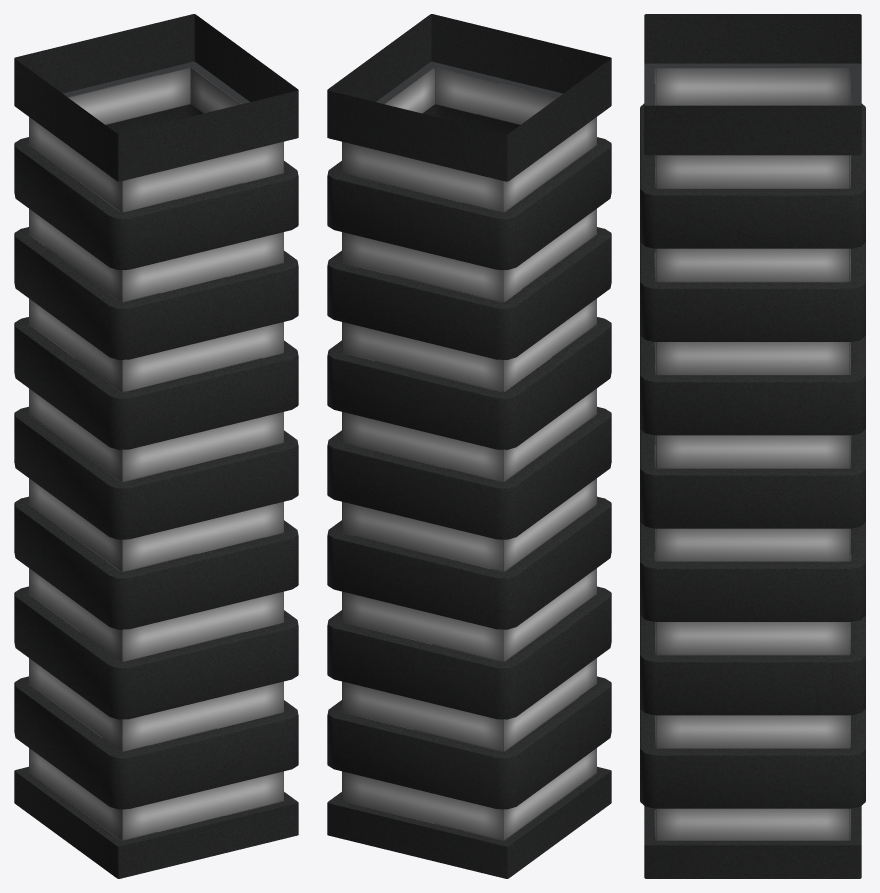
File: Column04.FBX
3 views of the same model, side by side, from view 1: azimuth 30°, elevation 25°; view 2: azimuth 150°, elevation 25°; view 3: azimuth 270°, elevation 25° (orthographic). The views are drawn at different scales.
Visible parts, largest first — view 1: Column04; view 2: Column04; view 3: Column04.
Boxes of the visible parts, x1,y1,x2,y2 form: Column04: [14, 14, 298, 878]; Column04: [327, 14, 611, 878]; Column04: [640, 14, 865, 878].
Bounding box in the file's own units: 92.63 × 350 × 92.63.
